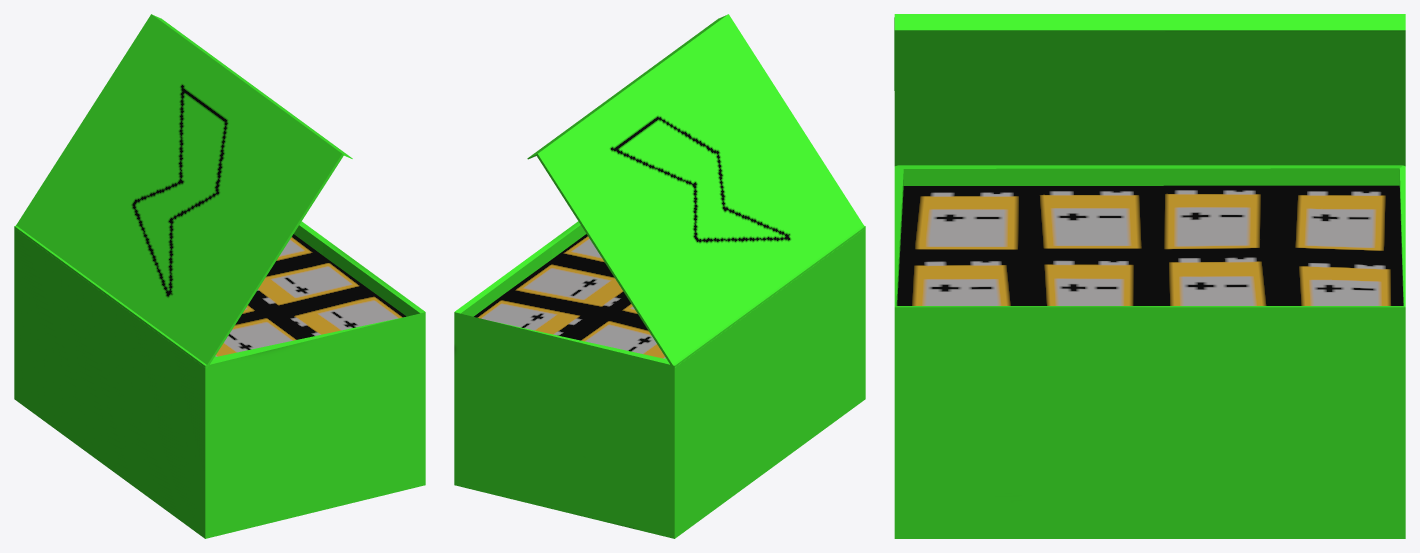
File: bat_box.fbx
3 views of the same model, side by side, from view 1: azimuth 30°, elevation 25°; view 2: azimuth 150°, elevation 25°; view 3: azimuth 270°, elevation 25° (orthographic). The views are drawn at different scales.
Parts seen in each view (by area): view 1: Cube, Cube.001; view 2: Cube, Cube.001; view 3: Cube, Cube.001.
Boxes of the visible parts, x1,y1,x2,y2 form: Cube: [14, 221, 425, 538]; Cube.001: [16, 14, 352, 368]; Cube: [454, 221, 865, 538]; Cube.001: [527, 14, 863, 367]; Cube: [894, 165, 1405, 538]; Cube.001: [894, 14, 1405, 166].
Bounding box in the file's own units: 40.01 × 60.96 × 60.05.
